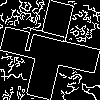L: (25, 25, 75, 63)
